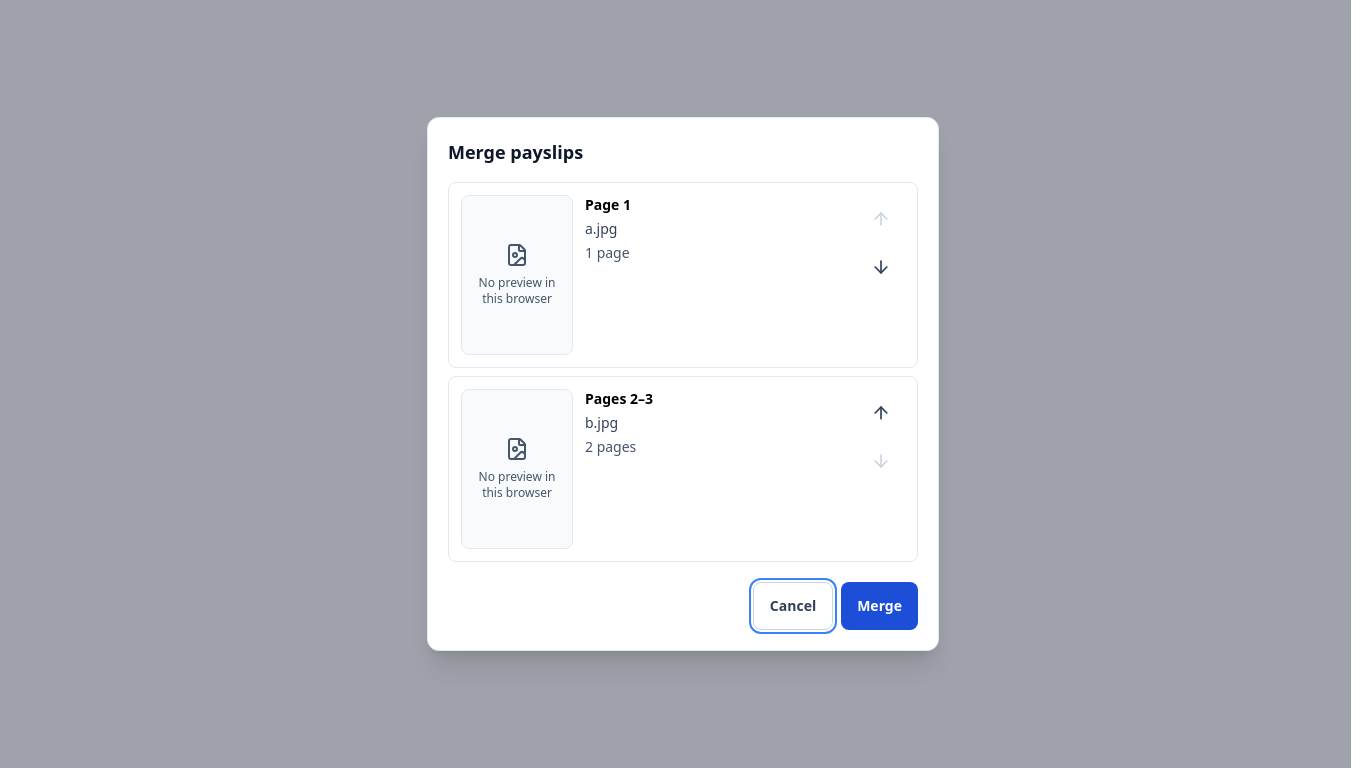
Scenario: MergeDialog (plan 11 D11, Task 15b D6) › stays open and explains a failure: {"status":409,"code":"merge_not_allowed"}
Click the button "Merge" at (880, 606), box [841,582,918,630]
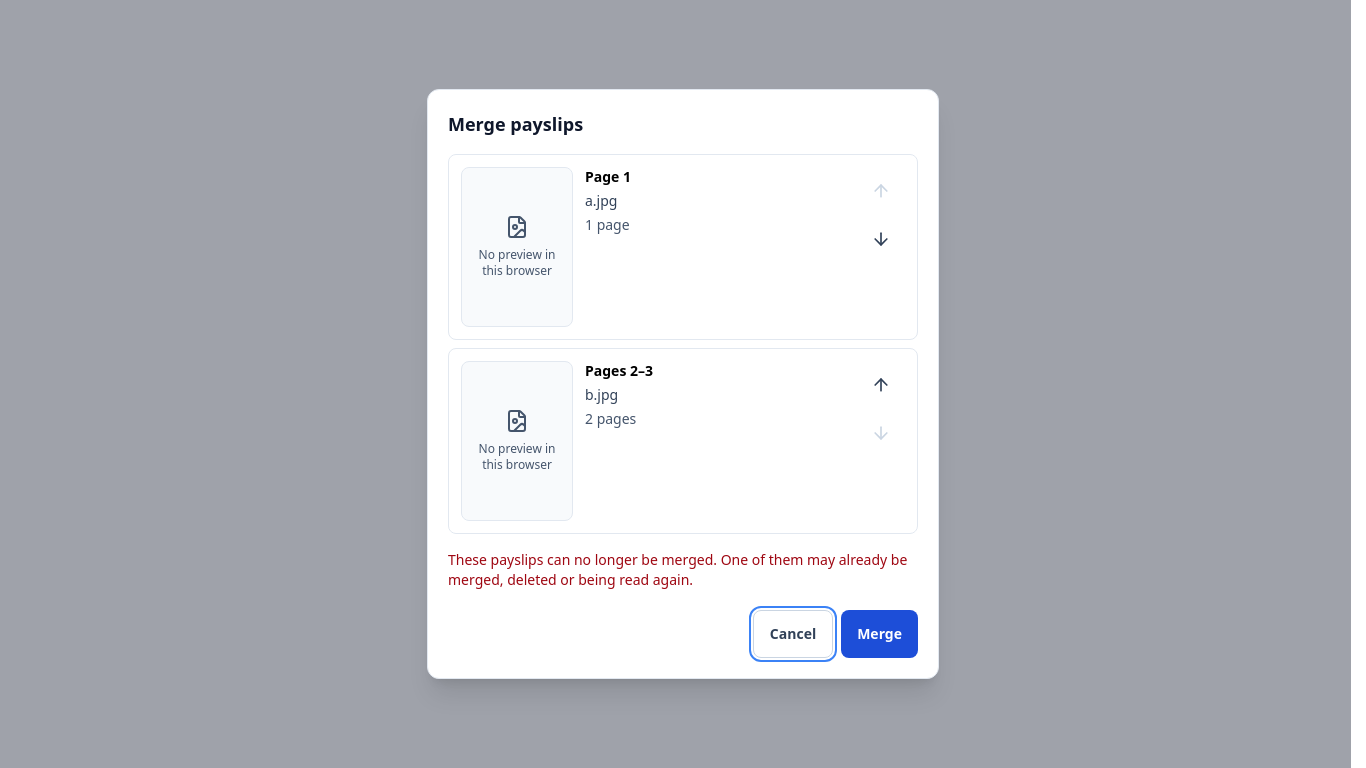
Expected: the message shows "These payslips can no longer be merged. One of them may already be merged, deleted or being read again.", [448,550,907,589]
